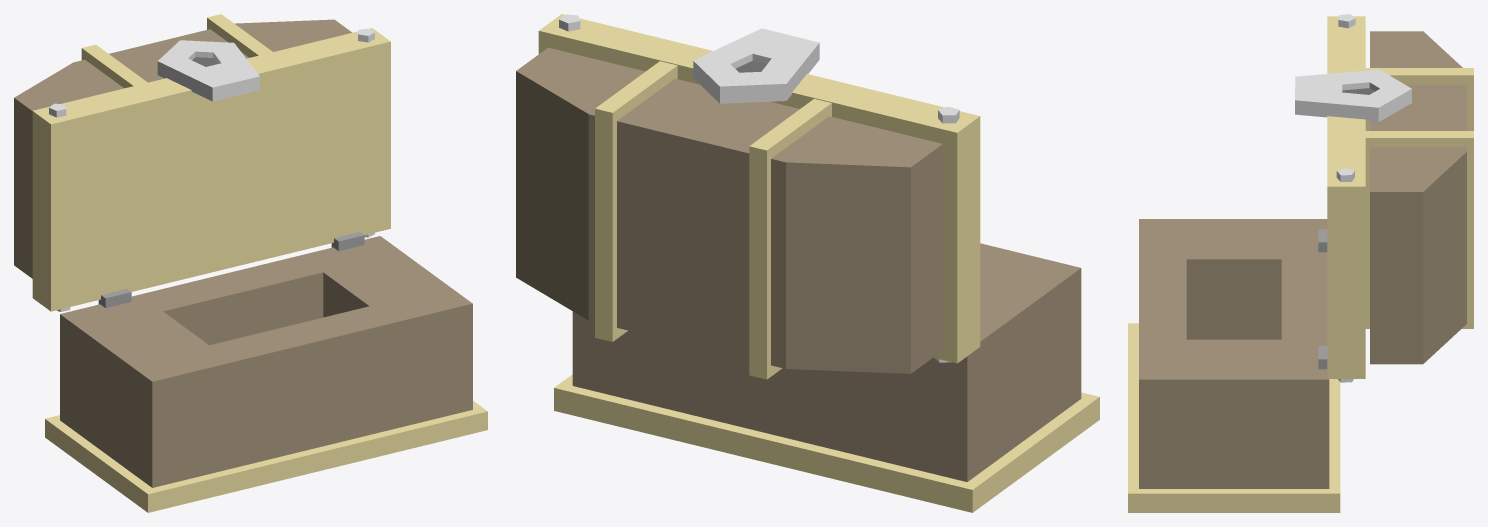
Rendered from Chest_Open_Model.fbx.
The picture shows the model from 3 angles, left to right: view 1: azimuth 30°, elevation 25°; view 2: azimuth 150°, elevation 25°; view 3: azimuth 270°, elevation 25°; orthographic projection. The views are drawn at different scales.
Parts seen in each view (by area): view 1: Lid, Body, Lower_Belt; view 2: Lid, Body, Lower_Belt; view 3: Body, Lid, Lower_Belt.
Boxes of the visible parts, x1,y1,x2,y2 form: Lid: (14, 14, 390, 311); Body: (60, 236, 472, 487); Lower_Belt: (45, 401, 487, 512); Lid: (516, 14, 980, 379); Body: (572, 243, 1081, 481); Lower_Belt: (554, 374, 1099, 512); Body: (1139, 219, 1329, 488); Lid: (1295, 14, 1473, 382); Lower_Belt: (1128, 323, 1340, 512).
Bounding box in the file's own units: 424 × 395 × 364.
